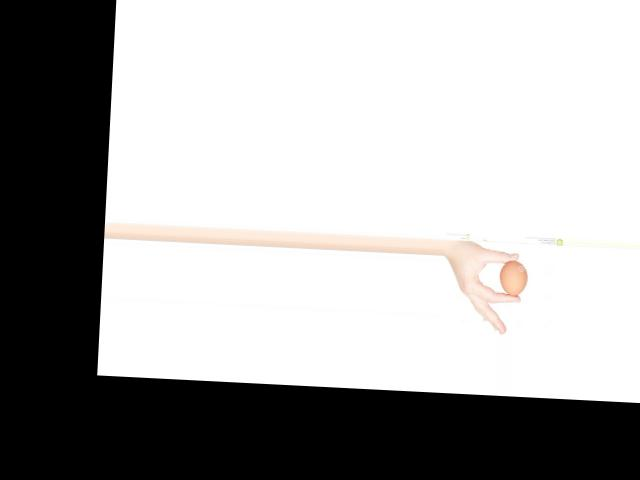egg: (498, 259, 528, 296)
